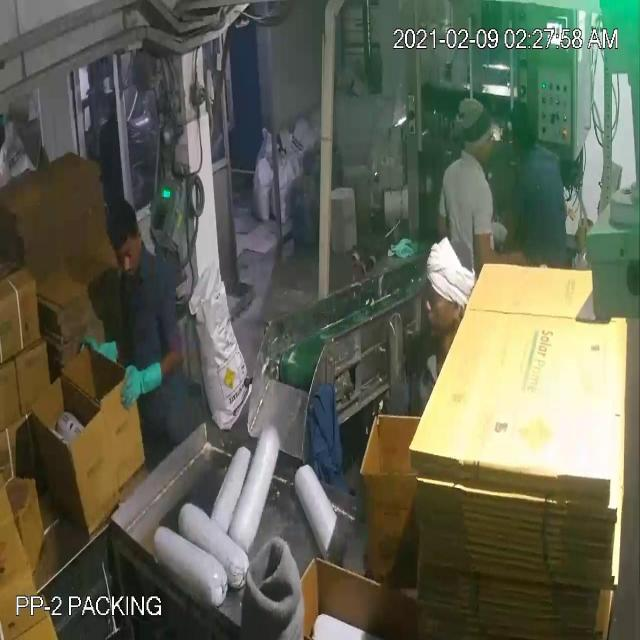Gloves: (44, 44, 140, 388)
